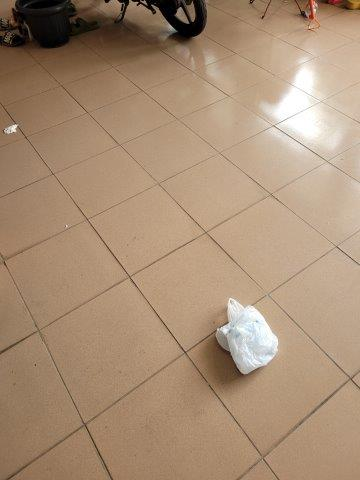plastik: (213, 300, 281, 375)
